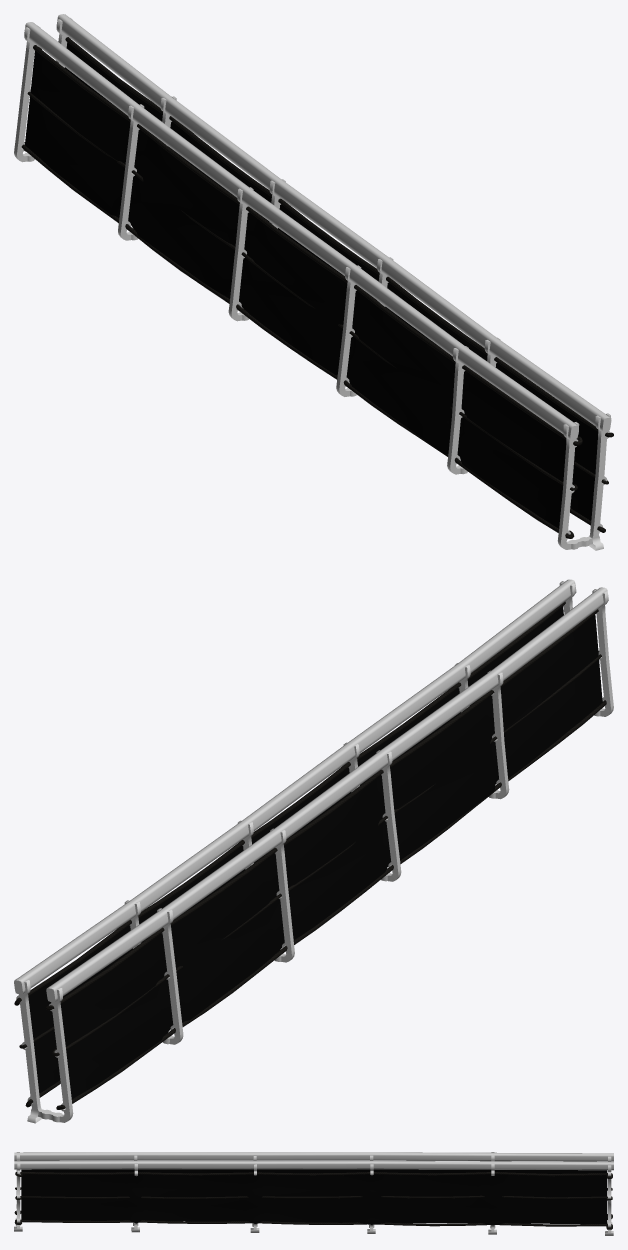
The model's file is SideRailsMiddleRight.fbx.
3 renders of one model, top to bottom at view 1: azimuth 30°, elevation 25°; view 2: azimuth 150°, elevation 25°; view 3: azimuth 270°, elevation 25°, orthographic. The views are drawn at different scales.
Visible parts, largest first — view 1: SideRailsMiddleRight; view 2: SideRailsMiddleRight; view 3: SideRailsMiddleRight.
Part boxes in pixels (left/top/right/bottom): SideRailsMiddleRight: left=14, top=14, right=613, bottom=550; SideRailsMiddleRight: left=14, top=579, right=613, bottom=1123; SideRailsMiddleRight: left=14, top=1152, right=613, bottom=1235.
Size of the model in its own units: 64.22 by 143 by 1026.
